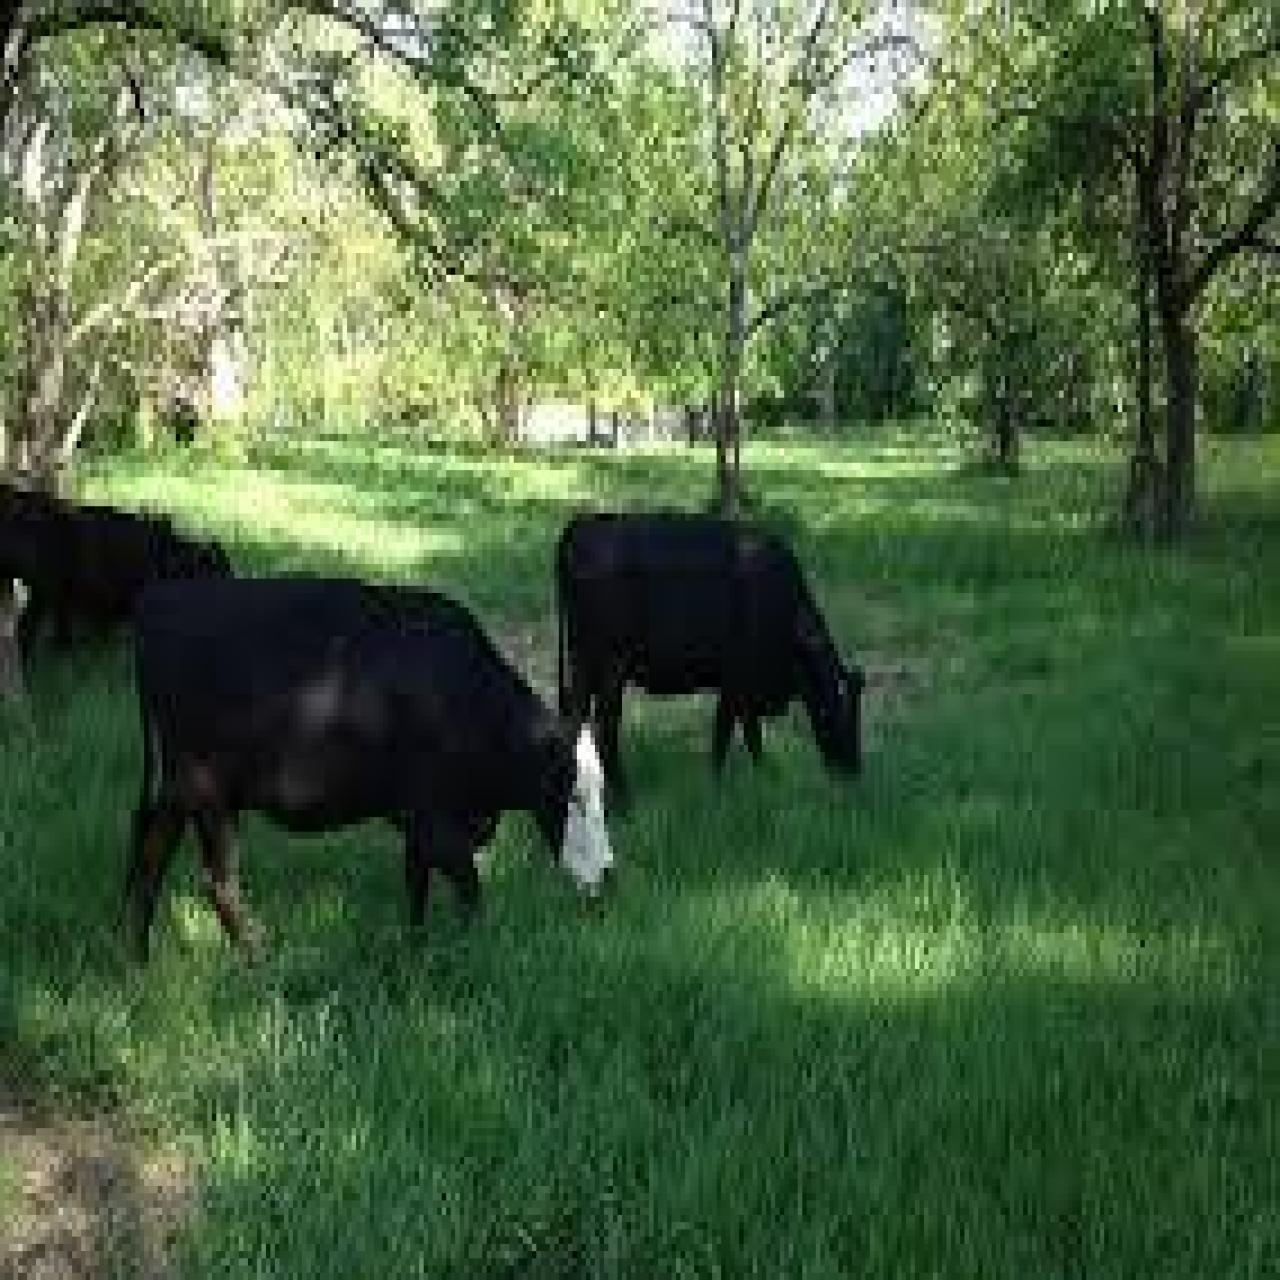cow: (127, 574, 618, 959), (552, 513, 863, 817)
